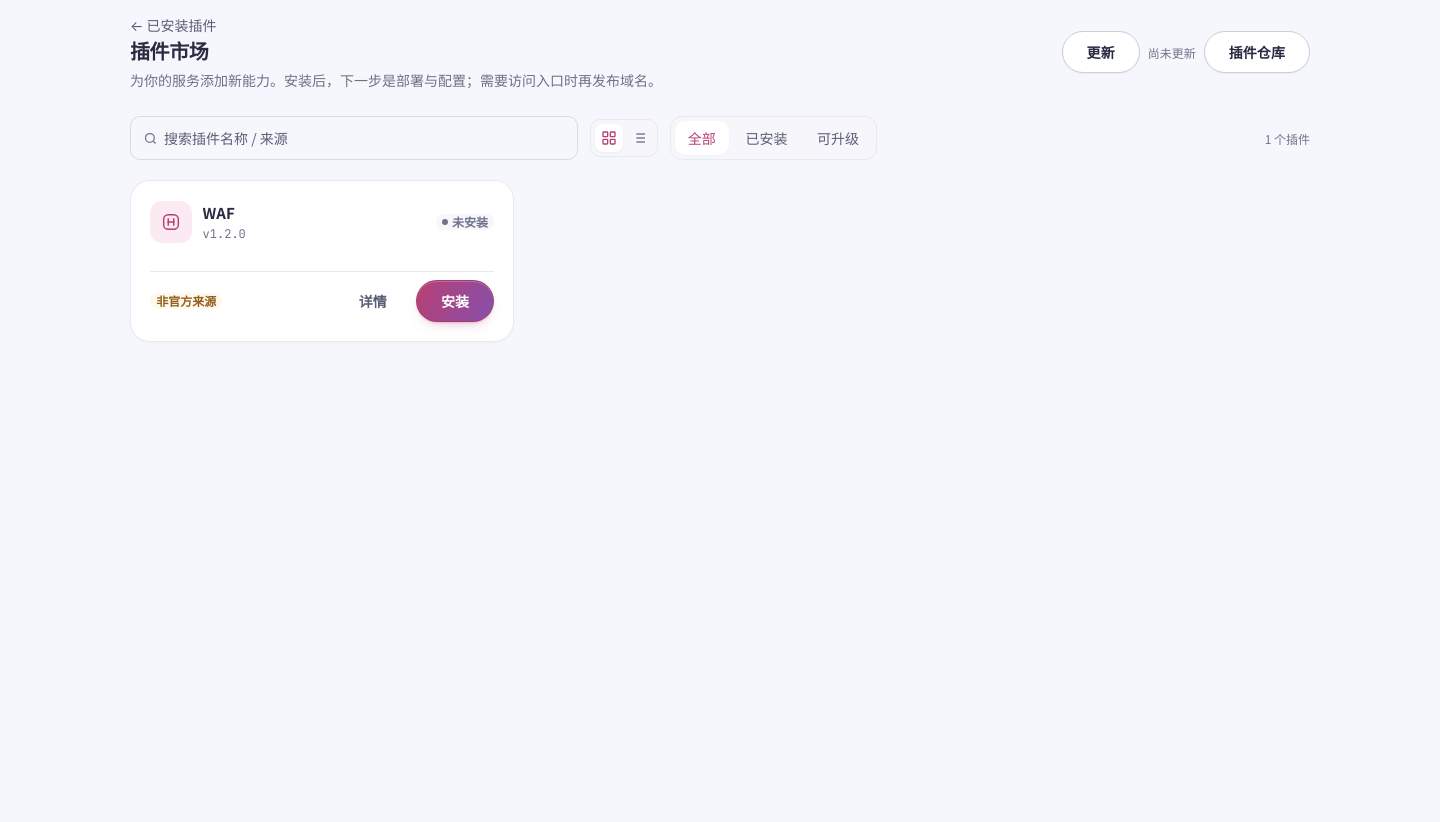
Scenario: PluginMarketplacePage › handles an HTTP conflict without a detailed server message using refreshed pending state
This screenshot has width=1440, height=822.
Click the button "安装" at (455, 301), box [416,280,494,322]
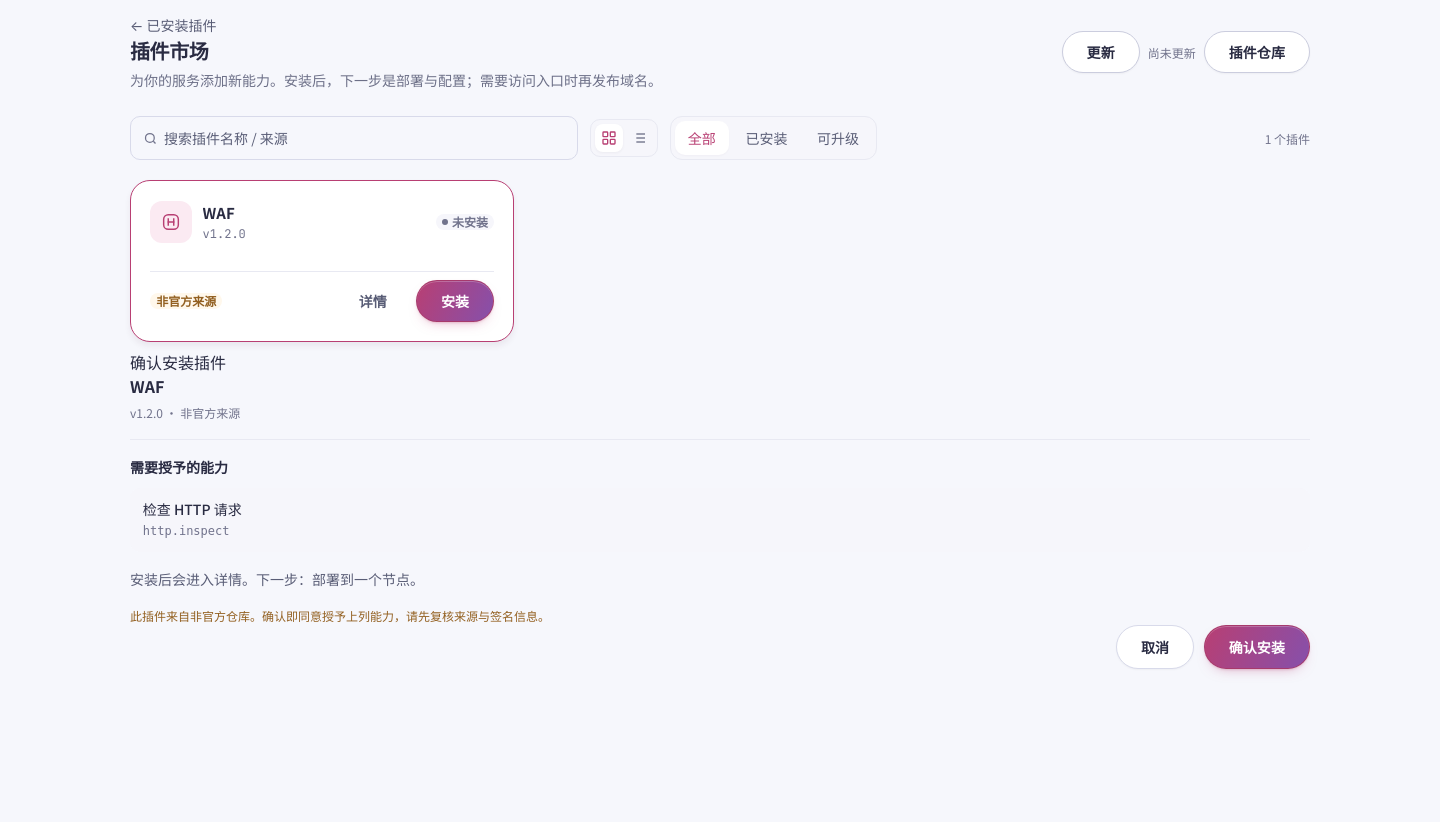
Click the button with test id "marketplace-confirm-submit" at (1257, 647), box [1204,625,1310,669]
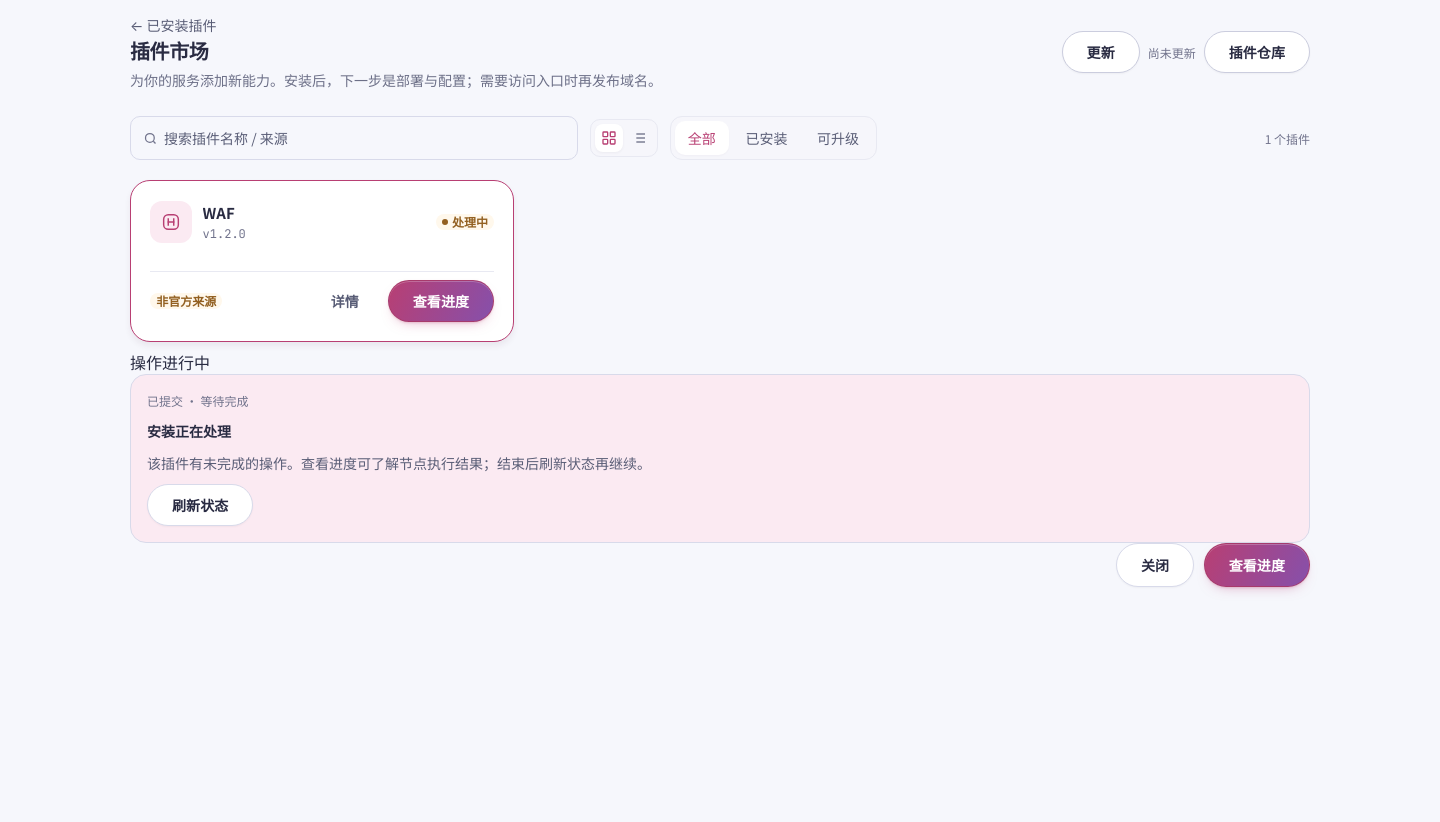
Result: the message with test id "marketplace-pending-status" shows "未完成的操作" at [147,453,651,473]
